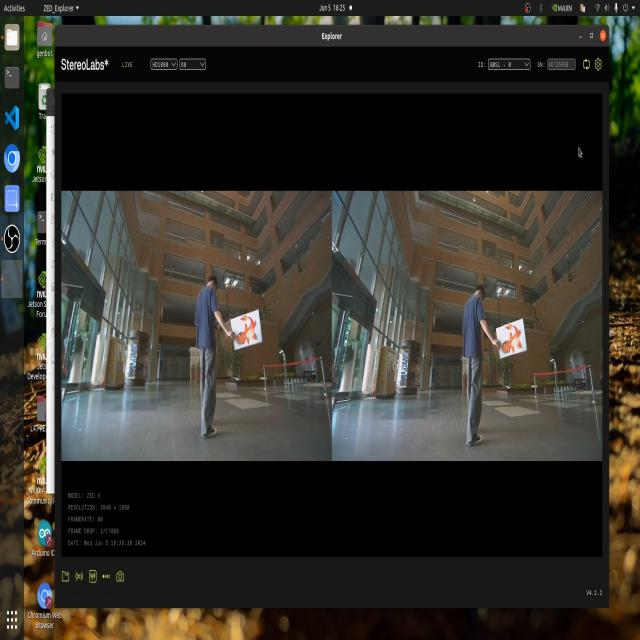red: (237, 307, 264, 354), (502, 321, 526, 365)
